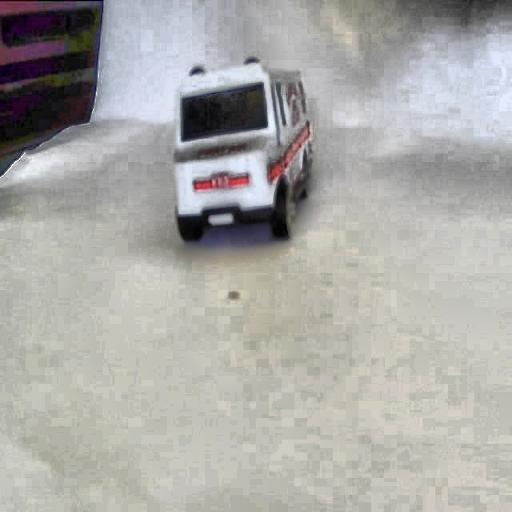ambulance: (174, 57, 312, 242)
